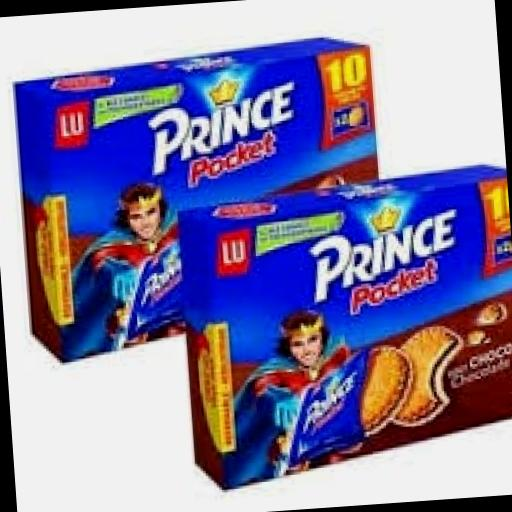prince: (239, 185, 512, 334)
